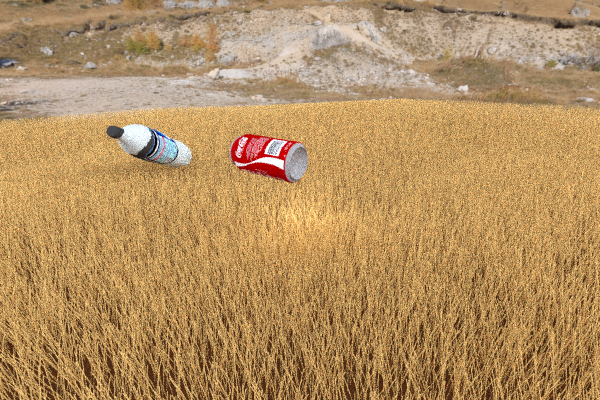Plastic Bottle: (229, 133, 307, 183), (106, 124, 191, 168), (397, 105, 437, 124)
